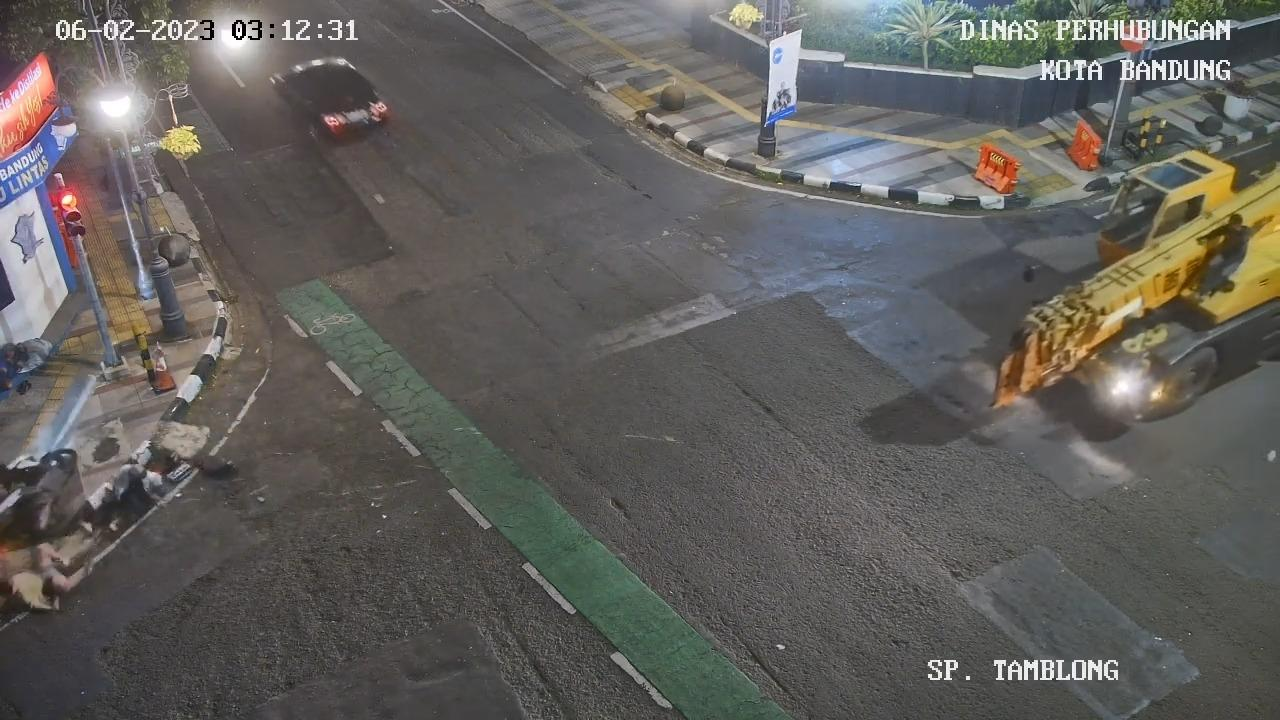accident: (0, 540, 102, 618)
